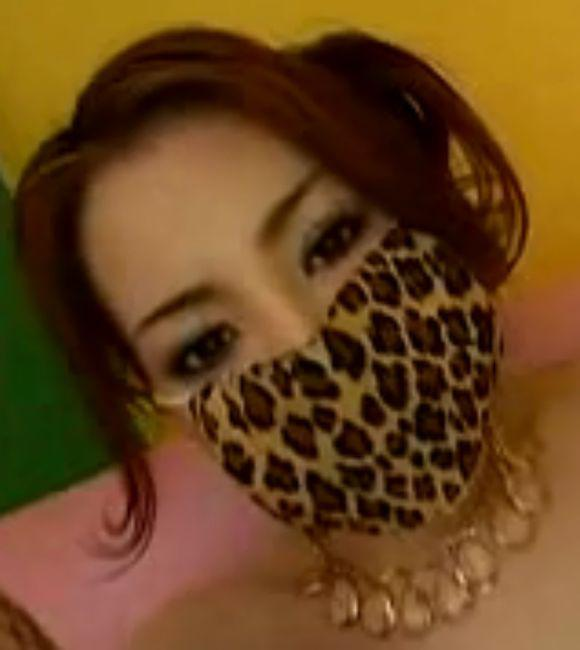OK: (128, 160, 492, 524)
